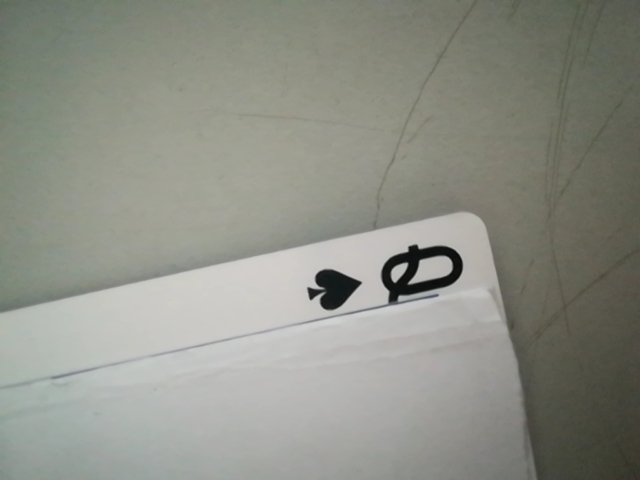ht q: (293, 233, 485, 322)
